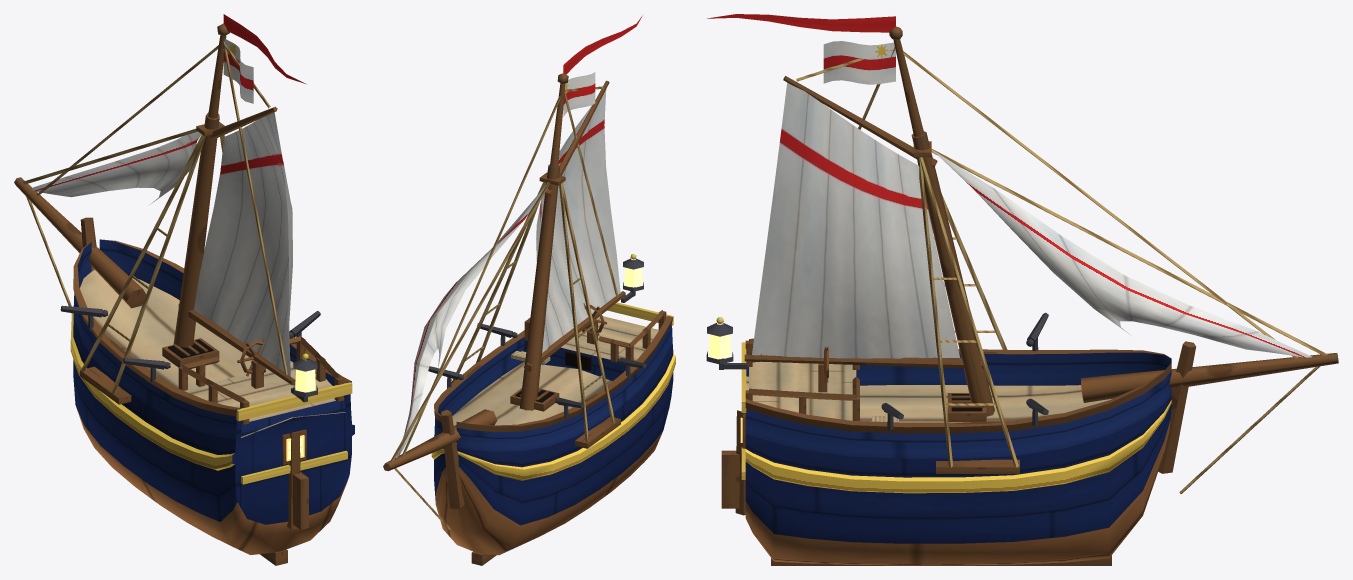
File: navy_cutter.glb
3 renders of one model, left to right at view 1: azimuth 30°, elevation 25°; view 2: azimuth 150°, elevation 25°; view 3: azimuth 270°, elevation 25°, orthographic. The views are drawn at different scales.
Parts seen in each view (by area): view 1: Hull, Sail0_0, Rigging, Jib, Flag, Guns0; view 2: Hull, Rigging, Sail0_0, Jib, Flag, Guns0; view 3: Hull, Sail0_0, Rigging, Jib, Flag, Guns0.
Part boxes in pixels (x1=…): Hull: x1=70, y1=217, x2=354, y2=565; Sail0_0: x1=194, y1=112, x2=292, y2=376; Rigging: x1=14, y1=23, x2=295, y2=393; Jib: x1=31, y1=131, x2=201, y2=204; Flag: x1=223, y1=14, x2=306, y2=103; Guns0: x1=60, y1=305, x2=320, y2=382; Hull: x1=431, y1=254, x2=675, y2=565; Rigging: x1=383, y1=73, x2=625, y2=530; Sail0_0: x1=536, y1=89, x2=620, y2=352; Jib: x1=396, y1=182, x2=548, y2=457; Flag: x1=563, y1=15, x2=642, y2=116; Guns0: x1=428, y1=323, x2=646, y2=418; Hull: x1=706, y1=317, x2=1196, y2=565; Sail0_0: x1=752, y1=82, x2=959, y2=358; Rigging: x1=744, y1=26, x2=1338, y2=493; Jib: x1=932, y1=150, x2=1311, y2=357; Flag: x1=707, y1=14, x2=895, y2=84; Guns0: x1=881, y1=312, x2=1048, y2=430.
Bounding box in the file's own units: 0.814 × 2.01 × 2.11.
8 materials, 8 textured.
